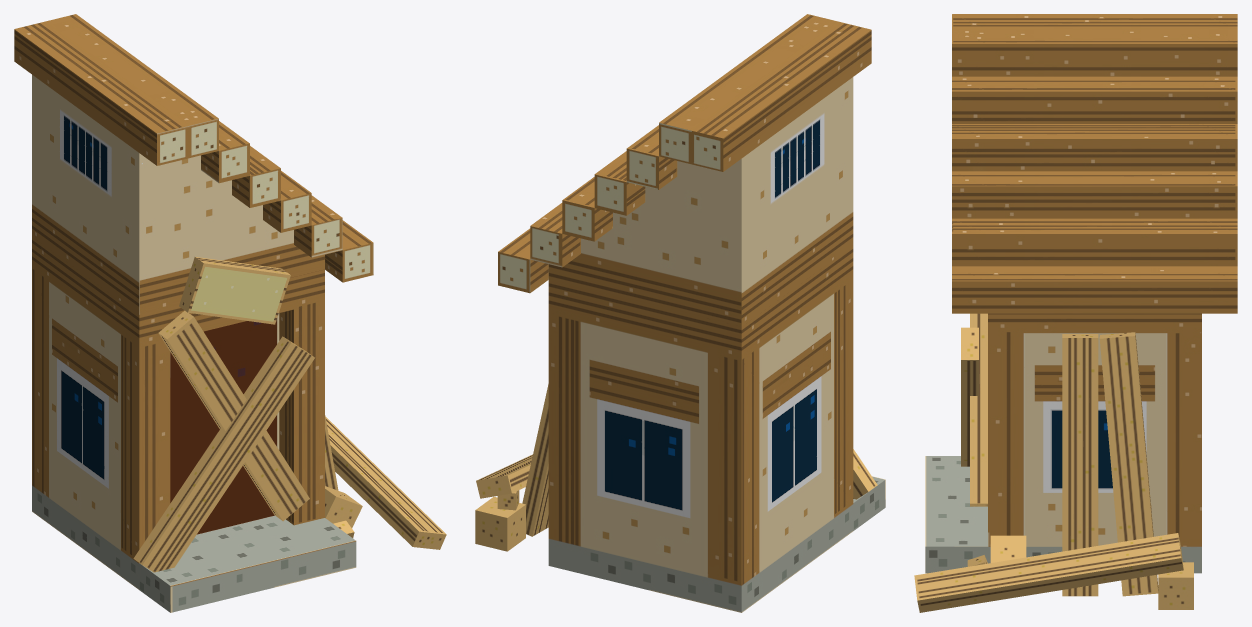
The model's file is house10-warehouse 1.FBX.
3 renders of one model, left to right at view 1: azimuth 30°, elevation 25°; view 2: azimuth 150°, elevation 25°; view 3: azimuth 270°, elevation 25°, orthographic. The views are drawn at different scales.
Parts seen in each view (by area): view 1: Box023, Object; view 2: Box023, Object; view 3: Box023, Object.
Boxes of the visible parts, left/top/right/bottom form: Box023: left=14, top=14, right=373, bottom=612; Object: left=133, top=256, right=446, bottom=572; Box023: left=498, top=14, right=885, bottom=612; Object: left=475, top=384, right=877, bottom=551; Box023: left=925, top=14, right=1237, bottom=573; Object: left=914, top=313, right=1193, bottom=612.
Bounding box in the file's own units: 548 × 870 × 544.
